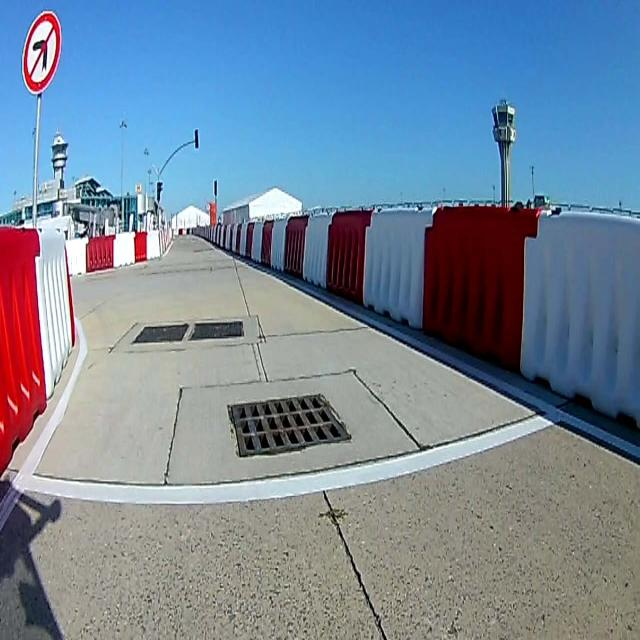soladonulmez: (23, 12, 59, 92)
